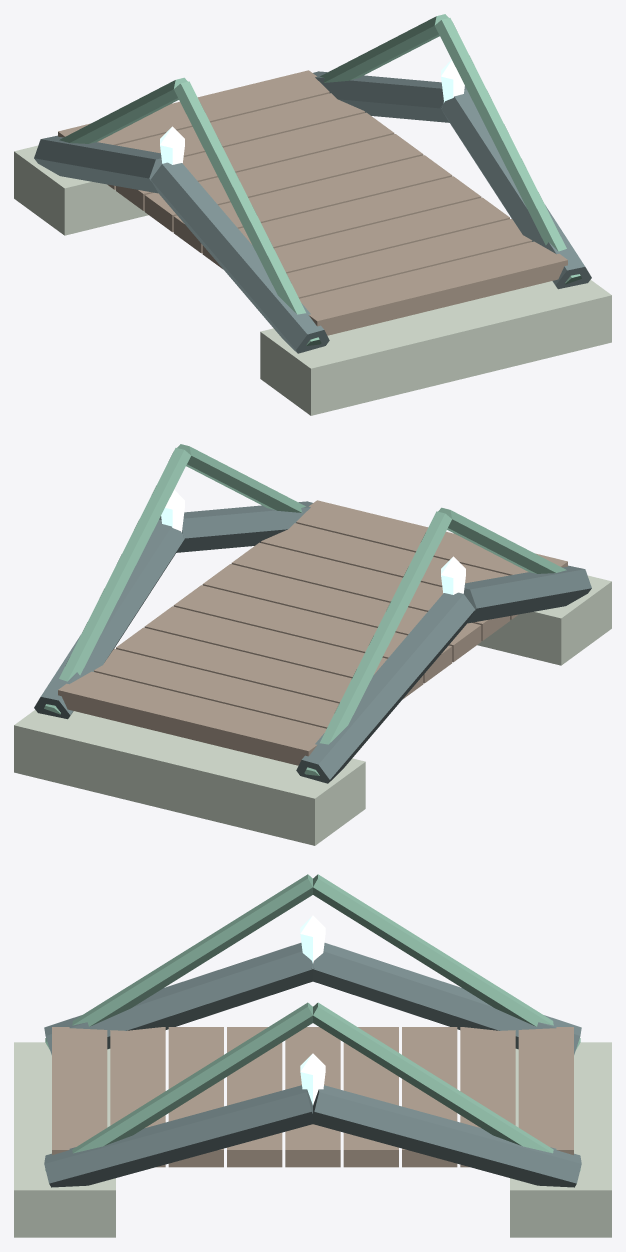
File: runestone-conservatory-woven-root-bridge__105.glb
The picture shows the model from 3 angles, top to bottom: view 1: azimuth 30°, elevation 25°; view 2: azimuth 150°, elevation 25°; view 3: azimuth 270°, elevation 25°; orthographic projection.
Parts seen in each view (by area): view 1: runestone-conservatory-root-bridge_0, runestone-conservatory-root-bridge_1, runestone-conservatory-root-bridge_2, runestone-conservatory-root-bridge_3, runestone-conservatory-root-bridge_4; view 2: runestone-conservatory-root-bridge_0, runestone-conservatory-root-bridge_1, runestone-conservatory-root-bridge_2, runestone-conservatory-root-bridge_3, runestone-conservatory-root-bridge_4; view 3: runestone-conservatory-root-bridge_0, runestone-conservatory-root-bridge_2, runestone-conservatory-root-bridge_1, runestone-conservatory-root-bridge_3, runestone-conservatory-root-bridge_4.
Boxes of the visible parts, x1,y1,x2,y2 form: runestone-conservatory-root-bridge_0: (58, 70, 567, 335); runestone-conservatory-root-bridge_1: (14, 145, 611, 415); runestone-conservatory-root-bridge_2: (34, 71, 591, 353); runestone-conservatory-root-bridge_3: (59, 14, 581, 345); runestone-conservatory-root-bridge_4: (160, 59, 464, 164); runestone-conservatory-root-bridge_0: (58, 500, 567, 765); runestone-conservatory-root-bridge_1: (14, 575, 611, 845); runestone-conservatory-root-bridge_2: (34, 501, 591, 783); runestone-conservatory-root-bridge_3: (44, 444, 566, 775); runestone-conservatory-root-bridge_4: (161, 489, 465, 594); runestone-conservatory-root-bridge_0: (52, 1027, 573, 1167); runestone-conservatory-root-bridge_2: (44, 943, 581, 1187); runestone-conservatory-root-bridge_1: (14, 1042, 611, 1237); runestone-conservatory-root-bridge_3: (45, 874, 580, 1170); runestone-conservatory-root-bridge_4: (300, 915, 325, 1104).
Size of the model in its own units: 1.3 by 0.845 by 2.05.
